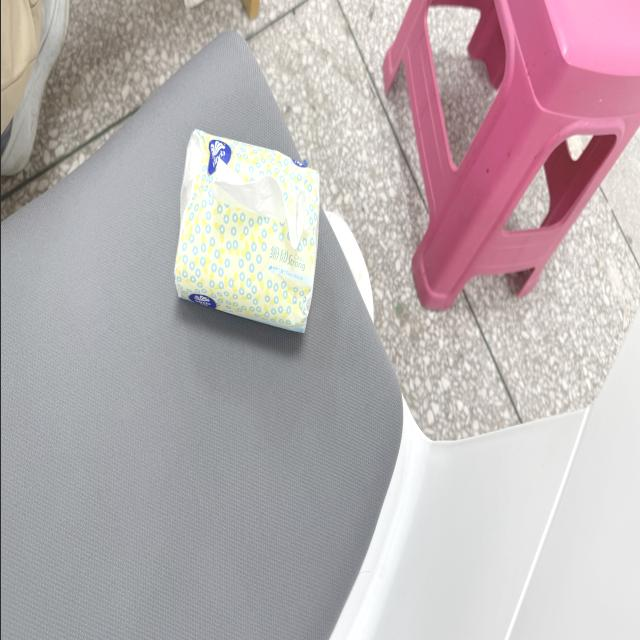tissue: (174, 131, 318, 331)
